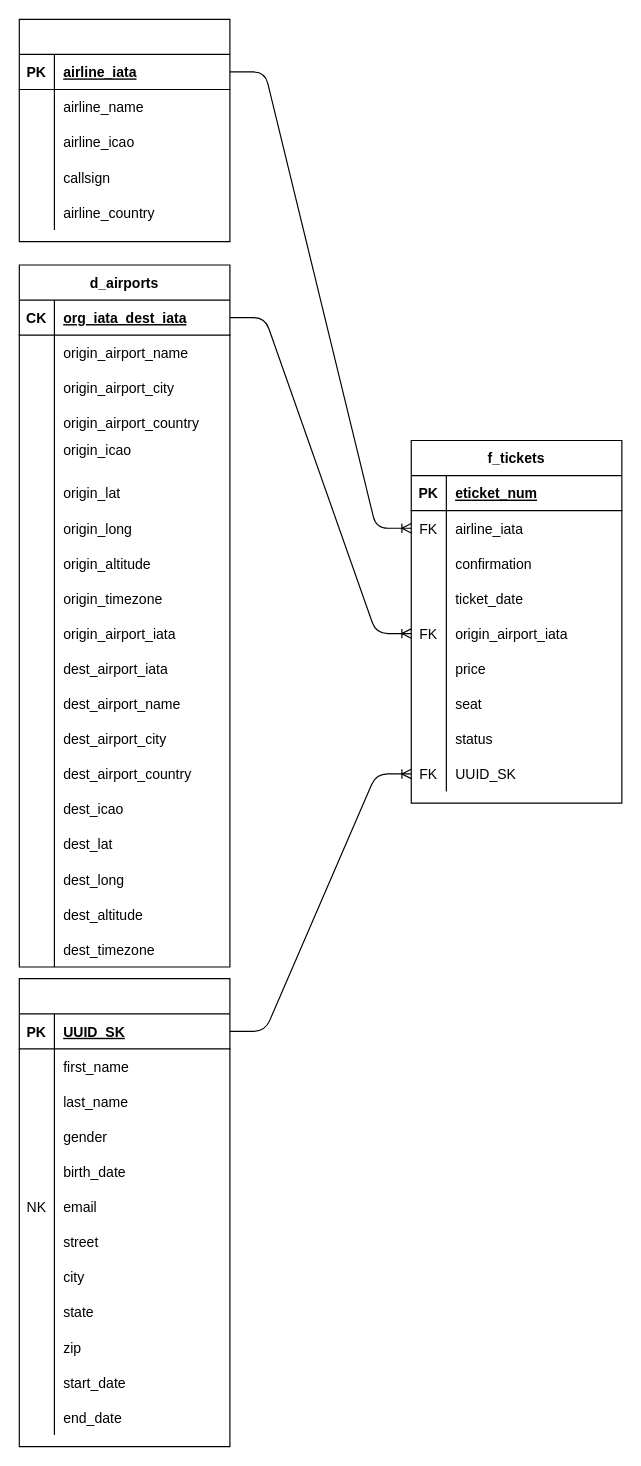
This 641x1466 diagram has some shape labels left out. The box of each missing label's shape, as (x1, y1, x2, y2) in pixels:
d_airlines: (18, 18, 230, 242)
SCD2_d_passengers: (18, 978, 230, 1447)
